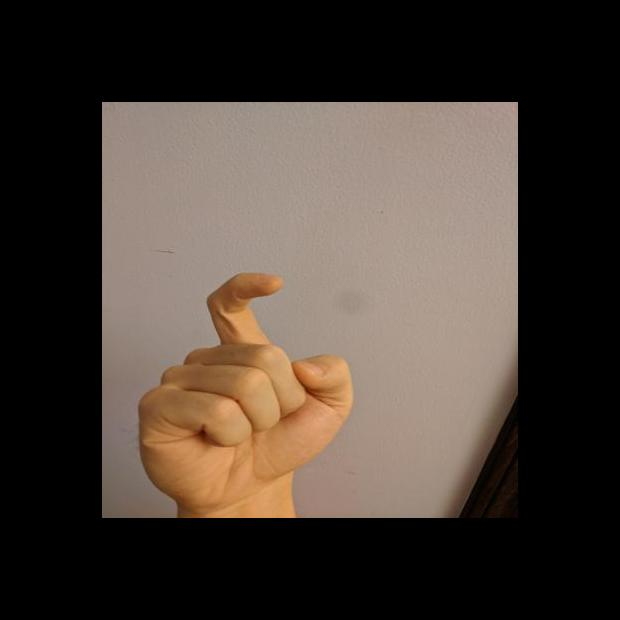W: (134, 270, 358, 507)
